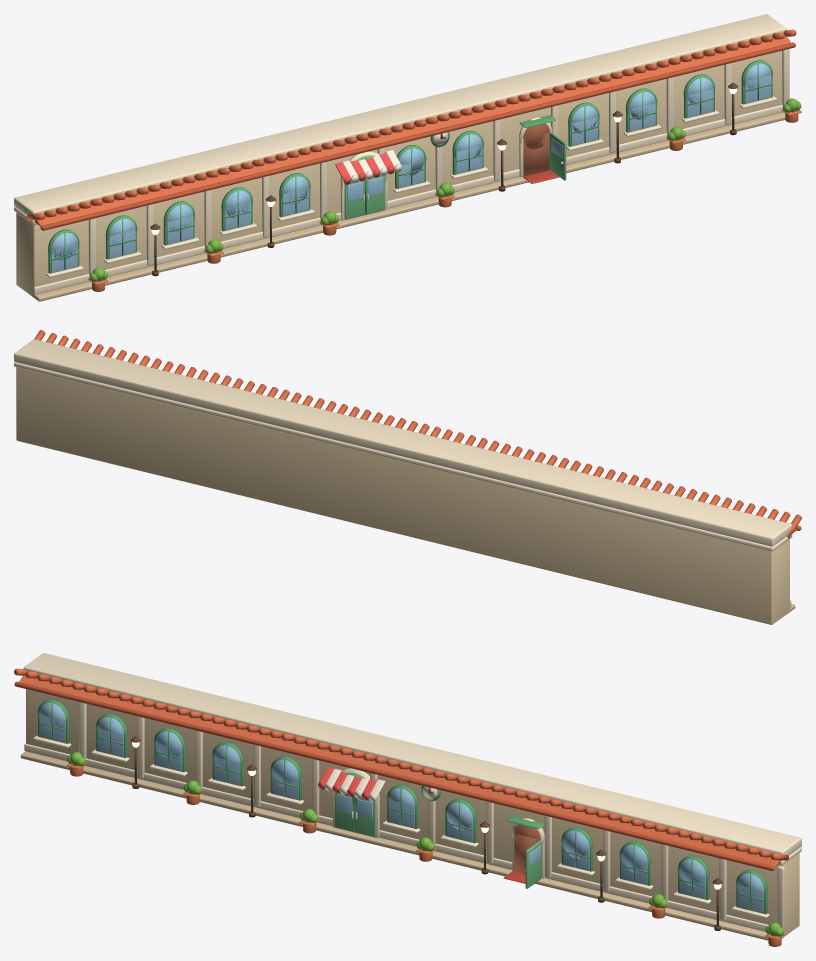
File: station-Csi3K6VV.glb
The picture shows the model from 3 angles, top to bottom: view 1: azimuth 30°, elevation 25°; view 2: azimuth 150°, elevation 25°; view 3: azimuth 330°, elevation 25°; orthographic projection.
Parts seen in each view (by area): view 1: station; view 2: station; view 3: station.
Boxes of the visible parts, x1,y1,x2,y2 form: station: (14,14,801,301); station: (14,330,801,624); station: (14,653,801,946).
Size of the model in its own units: 26.39 by 3.02 by 2.17.
